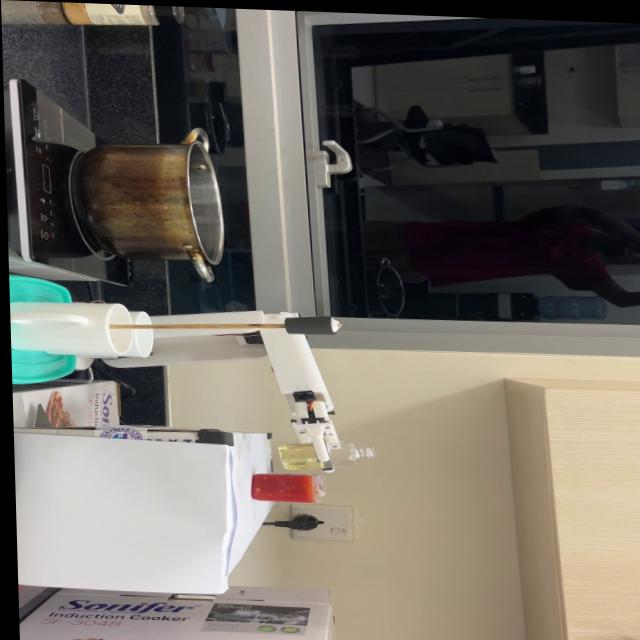blended_tomatoes_pepper: (248, 470, 310, 500)
cooking_pot: (71, 122, 225, 282)
oil: (273, 441, 321, 469)
spatula: (106, 308, 342, 337)
